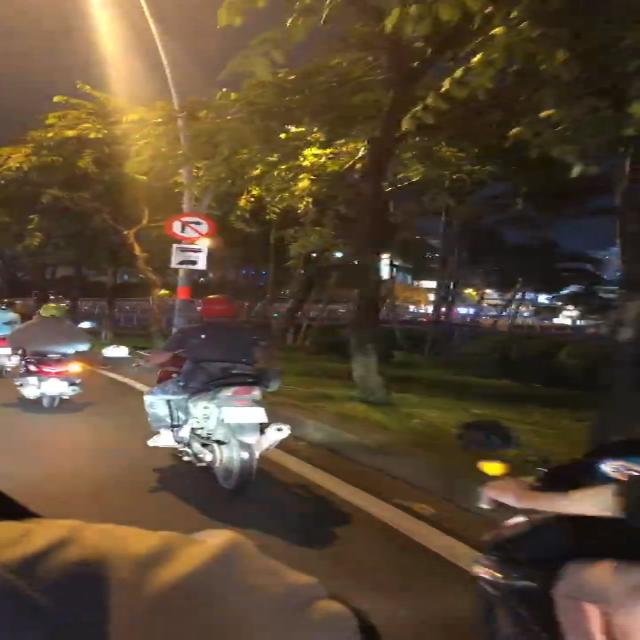Bien bao cam re phai: (160, 208, 217, 244)
